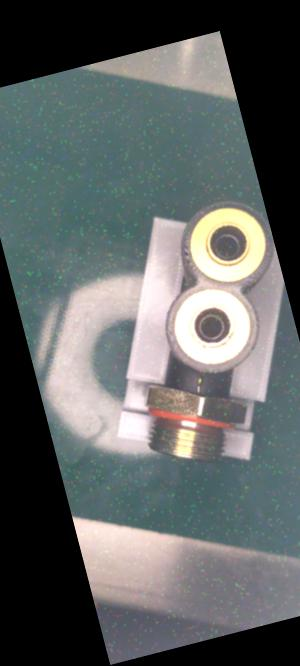craze: (189, 372, 209, 397)
